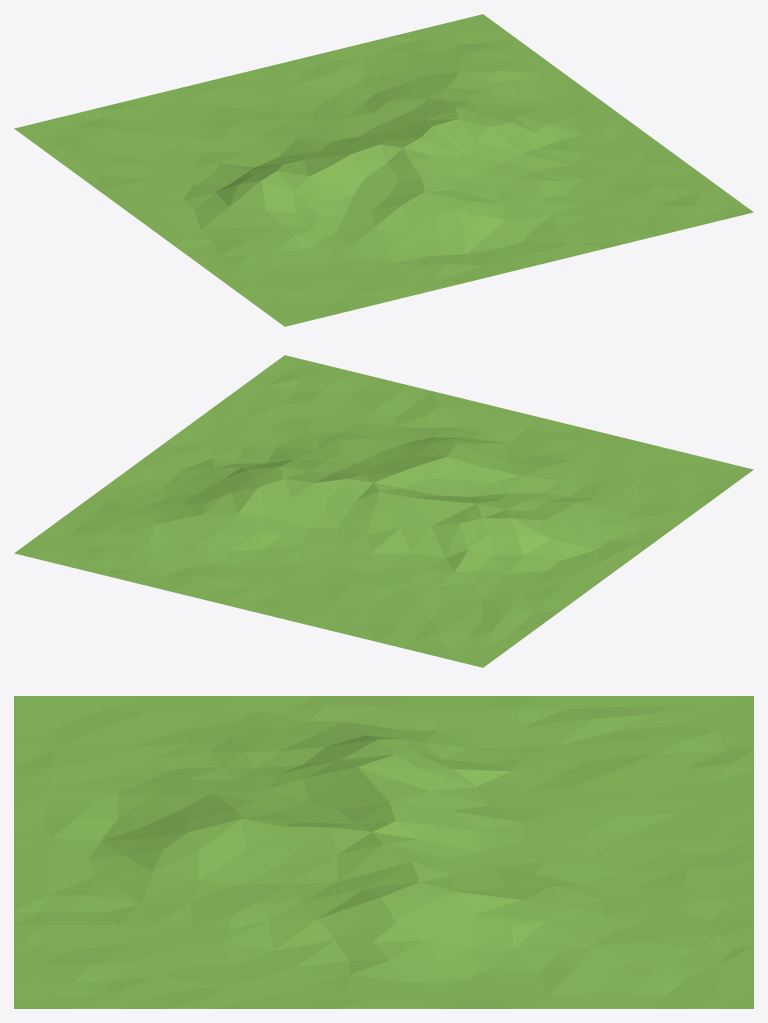
Rendered from MT_Terrain_M_a_19.fbx.
3 views of the same model, one above another, from view 1: azimuth 30°, elevation 25°; view 2: azimuth 150°, elevation 25°; view 3: azimuth 270°, elevation 25° (orthographic). The views are drawn at different scales.
Visible parts, largest first — view 1: MT_Terrain_M_a_19; view 2: MT_Terrain_M_a_19; view 3: MT_Terrain_M_a_19.
Part boxes in pixels (x1=…): MT_Terrain_M_a_19: x1=14, y1=14, x2=753, y2=326; MT_Terrain_M_a_19: x1=14, y1=355, x2=753, y2=667; MT_Terrain_M_a_19: x1=14, y1=696, x2=753, y2=1008.
Bounding box in the file's own units: 5000 × 269 × 5000.
